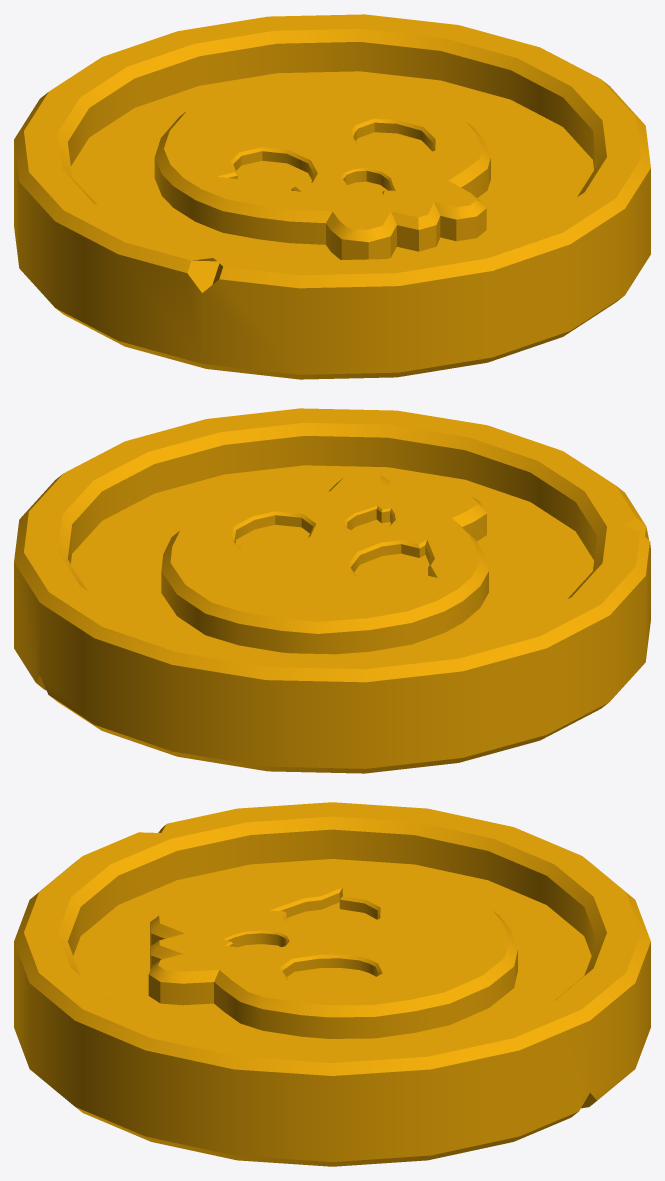
The model's file is uploads-files-2742150-COINS 1.fbx.
The picture shows the model from 3 angles, top to bottom: view 1: azimuth 30°, elevation 25°; view 2: azimuth 150°, elevation 25°; view 3: azimuth 270°, elevation 25°; orthographic projection.
Parts seen in each view (by area): view 1: Cylinder; view 2: Cylinder; view 3: Cylinder.
Part boxes in pixels (x1,y1,x2,y2): Cylinder: (14, 14, 650, 379); Cylinder: (14, 408, 650, 773); Cylinder: (14, 802, 650, 1166).
Bounding box in the file's own units: 335 × 60.14 × 335.
